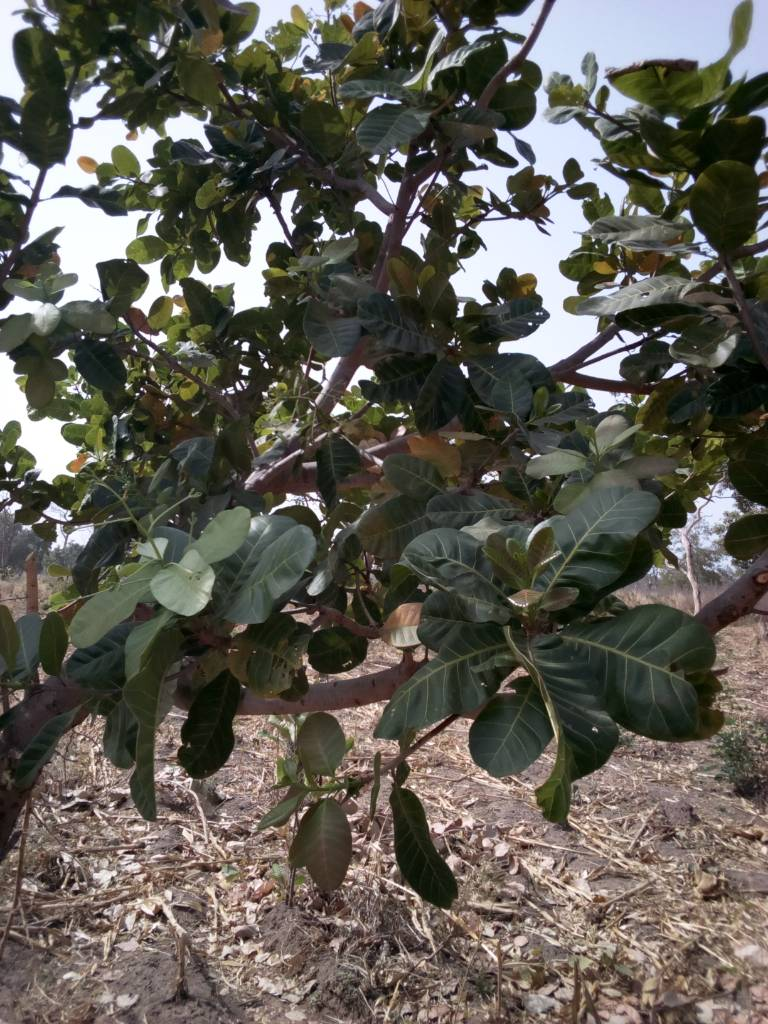Helopeltis anacardii: (500, 617, 618, 828), (360, 291, 450, 355)
